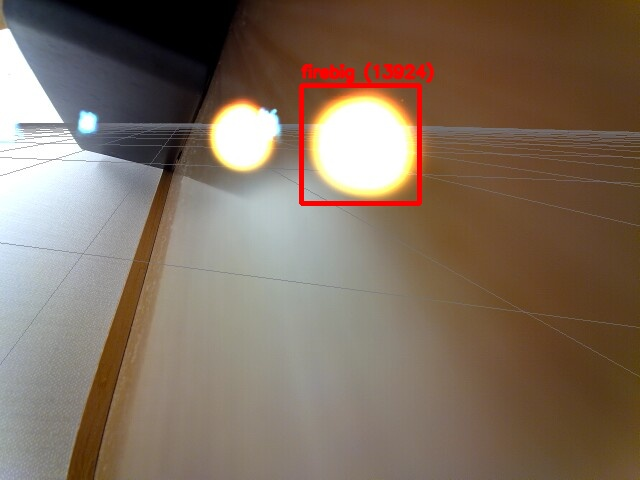firebig: (301, 85, 419, 203)
